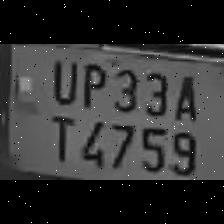3: (106, 60, 140, 112), (140, 65, 168, 117)
4: (76, 114, 106, 166)
5: (134, 121, 166, 173)
7: (105, 118, 133, 170)
9: (166, 125, 198, 175)
A: (170, 69, 200, 121)
P: (76, 56, 106, 110)
T: (43, 109, 76, 163)
U: (46, 55, 78, 105)
